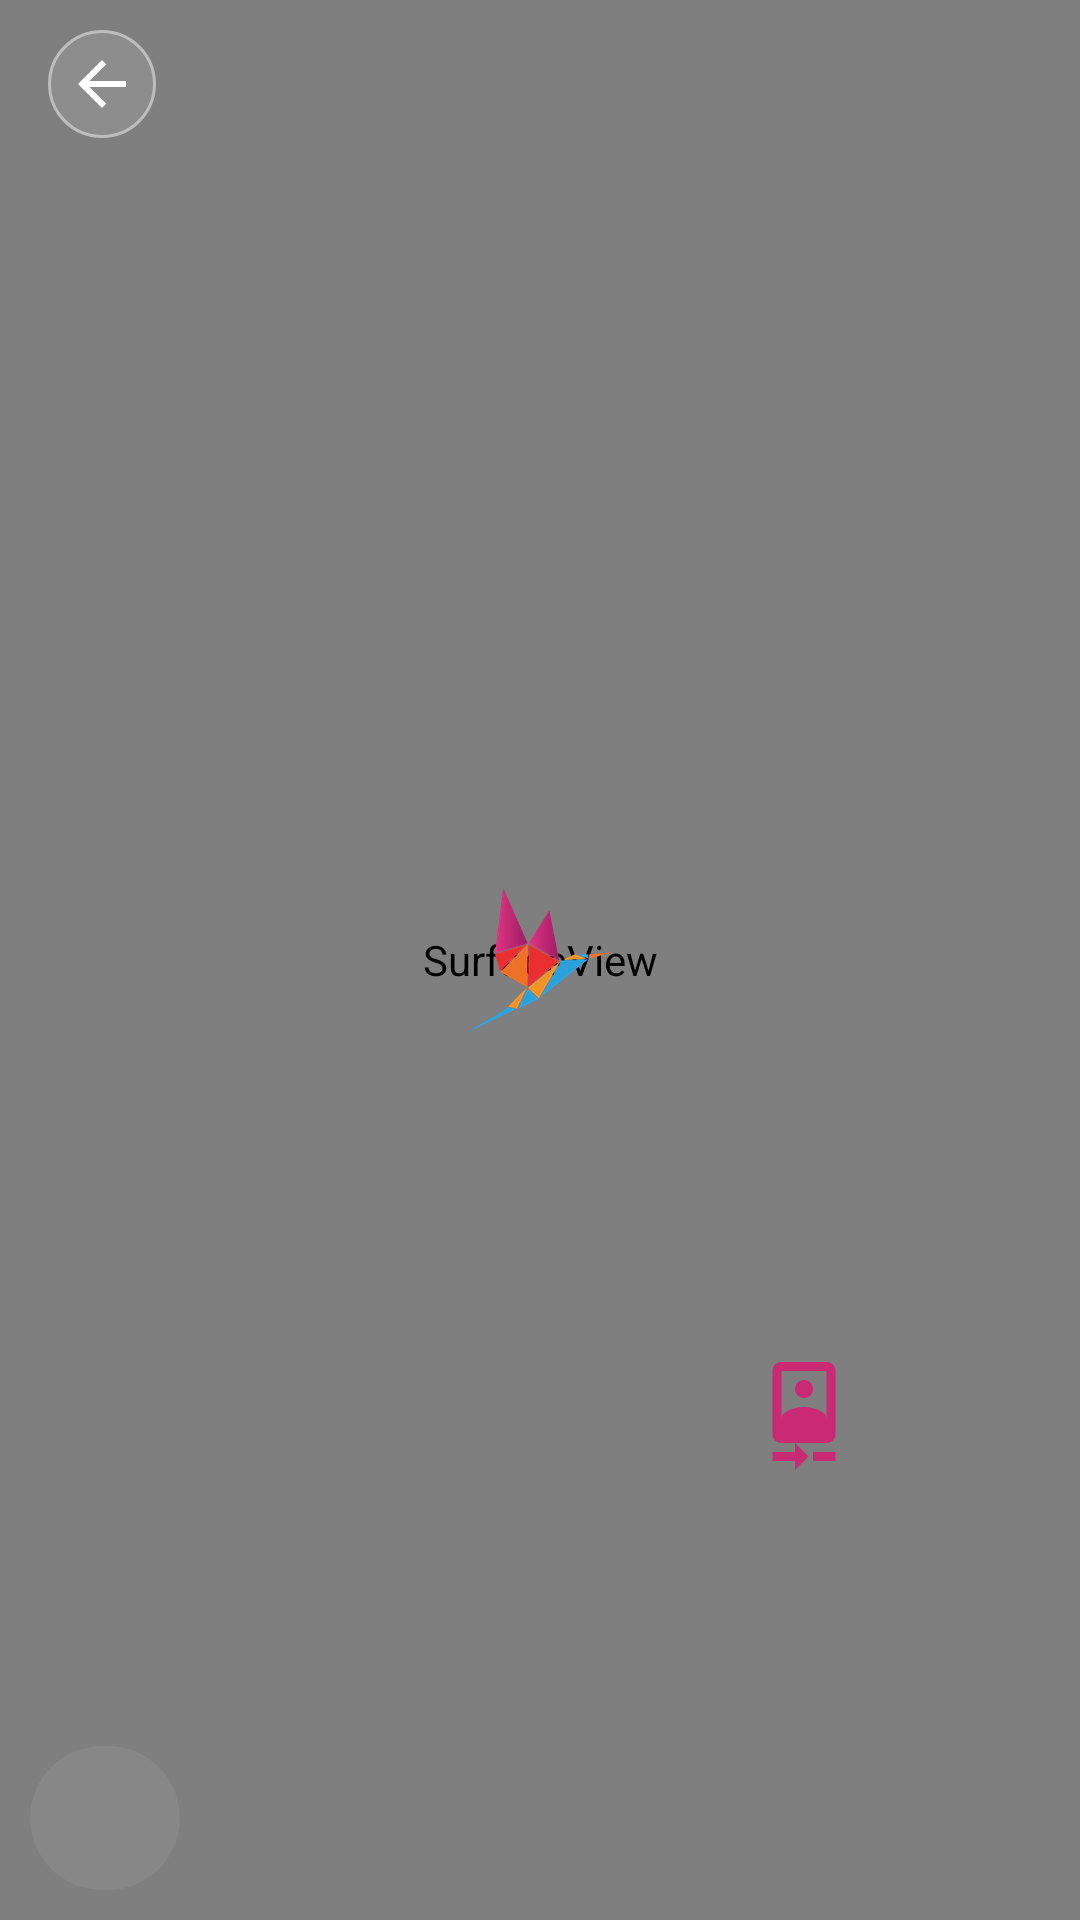

Point at icon controls on the screen. Image size 1080x1920, points as (x,y).
arrow back: (102,84)
